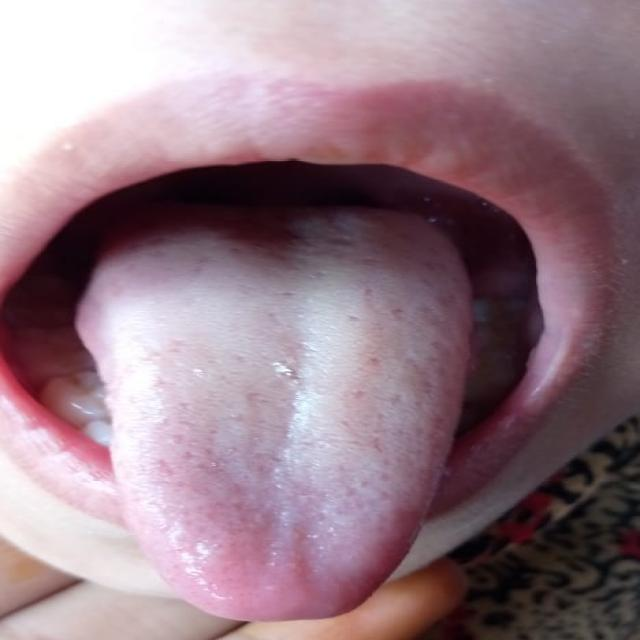No Cancer: (194, 331, 406, 460)
